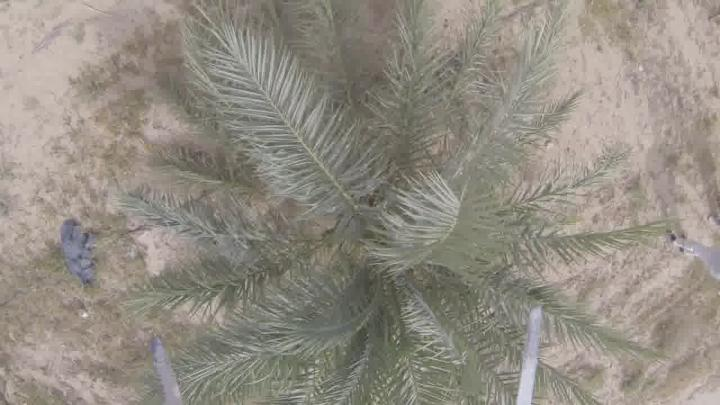Date-Palm-Crown: (231, 107, 509, 405)
